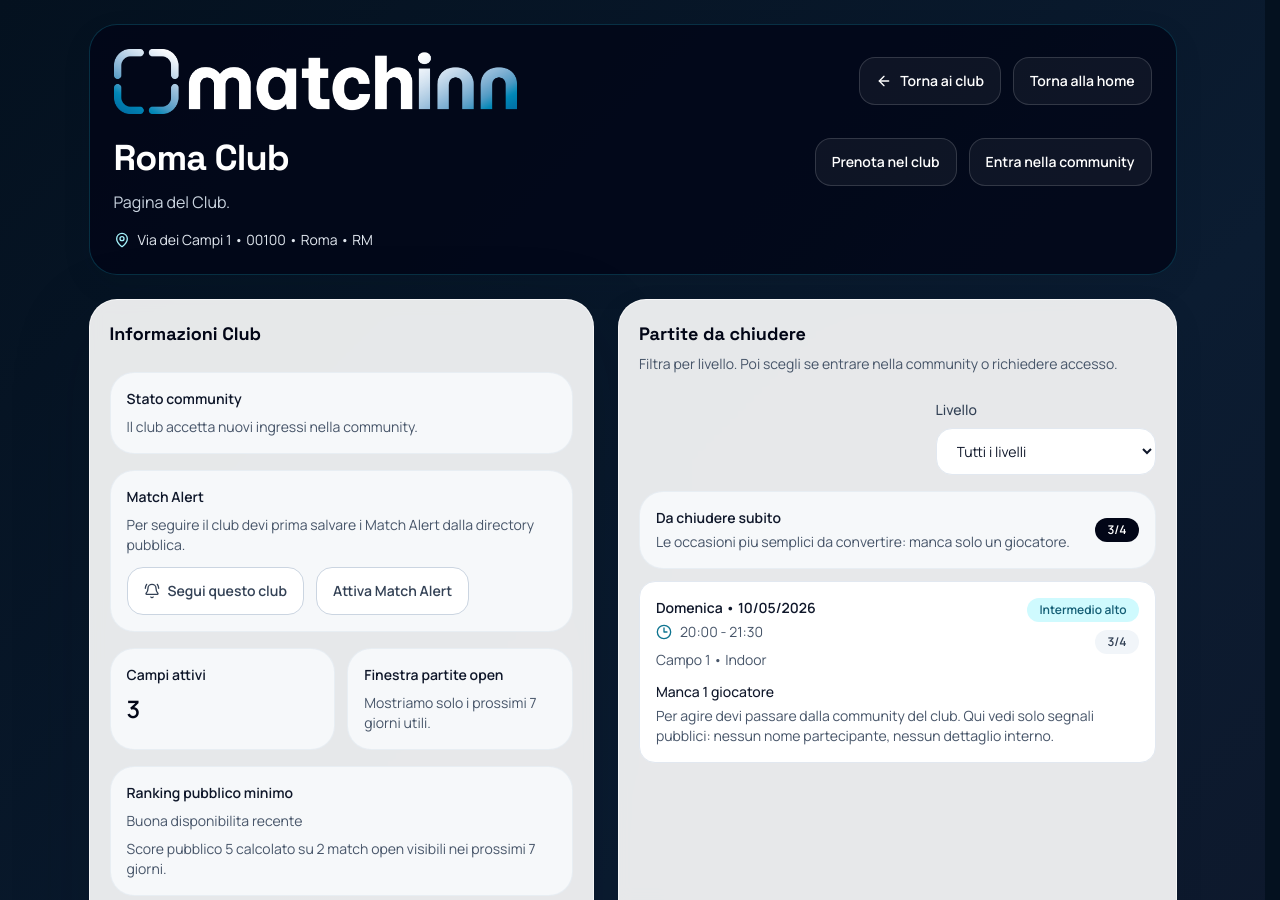
Public discovery routes › renders /c/:clubSlug with public open matches and level filter without player details
Expected: the heading "Roma Club" is shown, [114,135,289,181]
Expected: the text "Manca 1 giocatore" is shown, [656,682,774,701]
Select "Avanzato" in the dropdown labelled "Livello" at (1046, 451), box [936,428,1156,475]
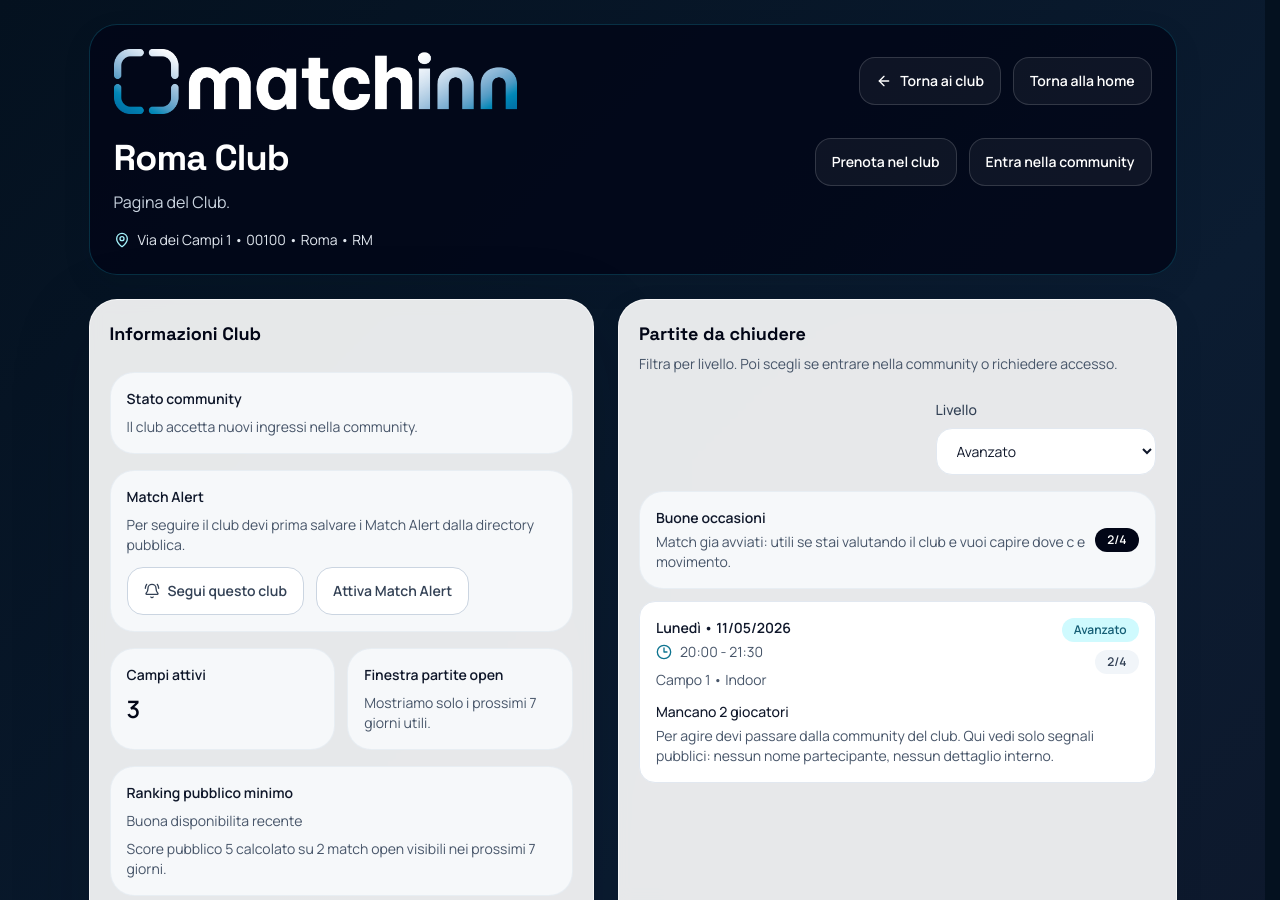
Expected: the text "Mancano 2 giocatori" is shown, [656,702,789,721]
